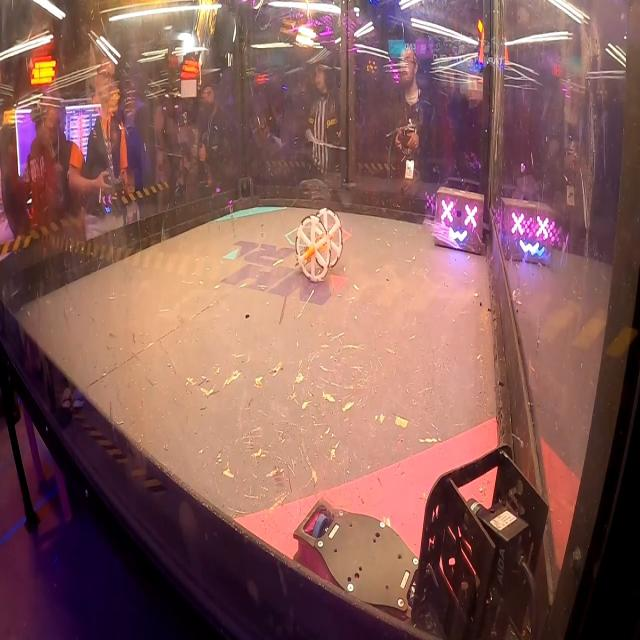brick: (430, 186, 487, 260)
